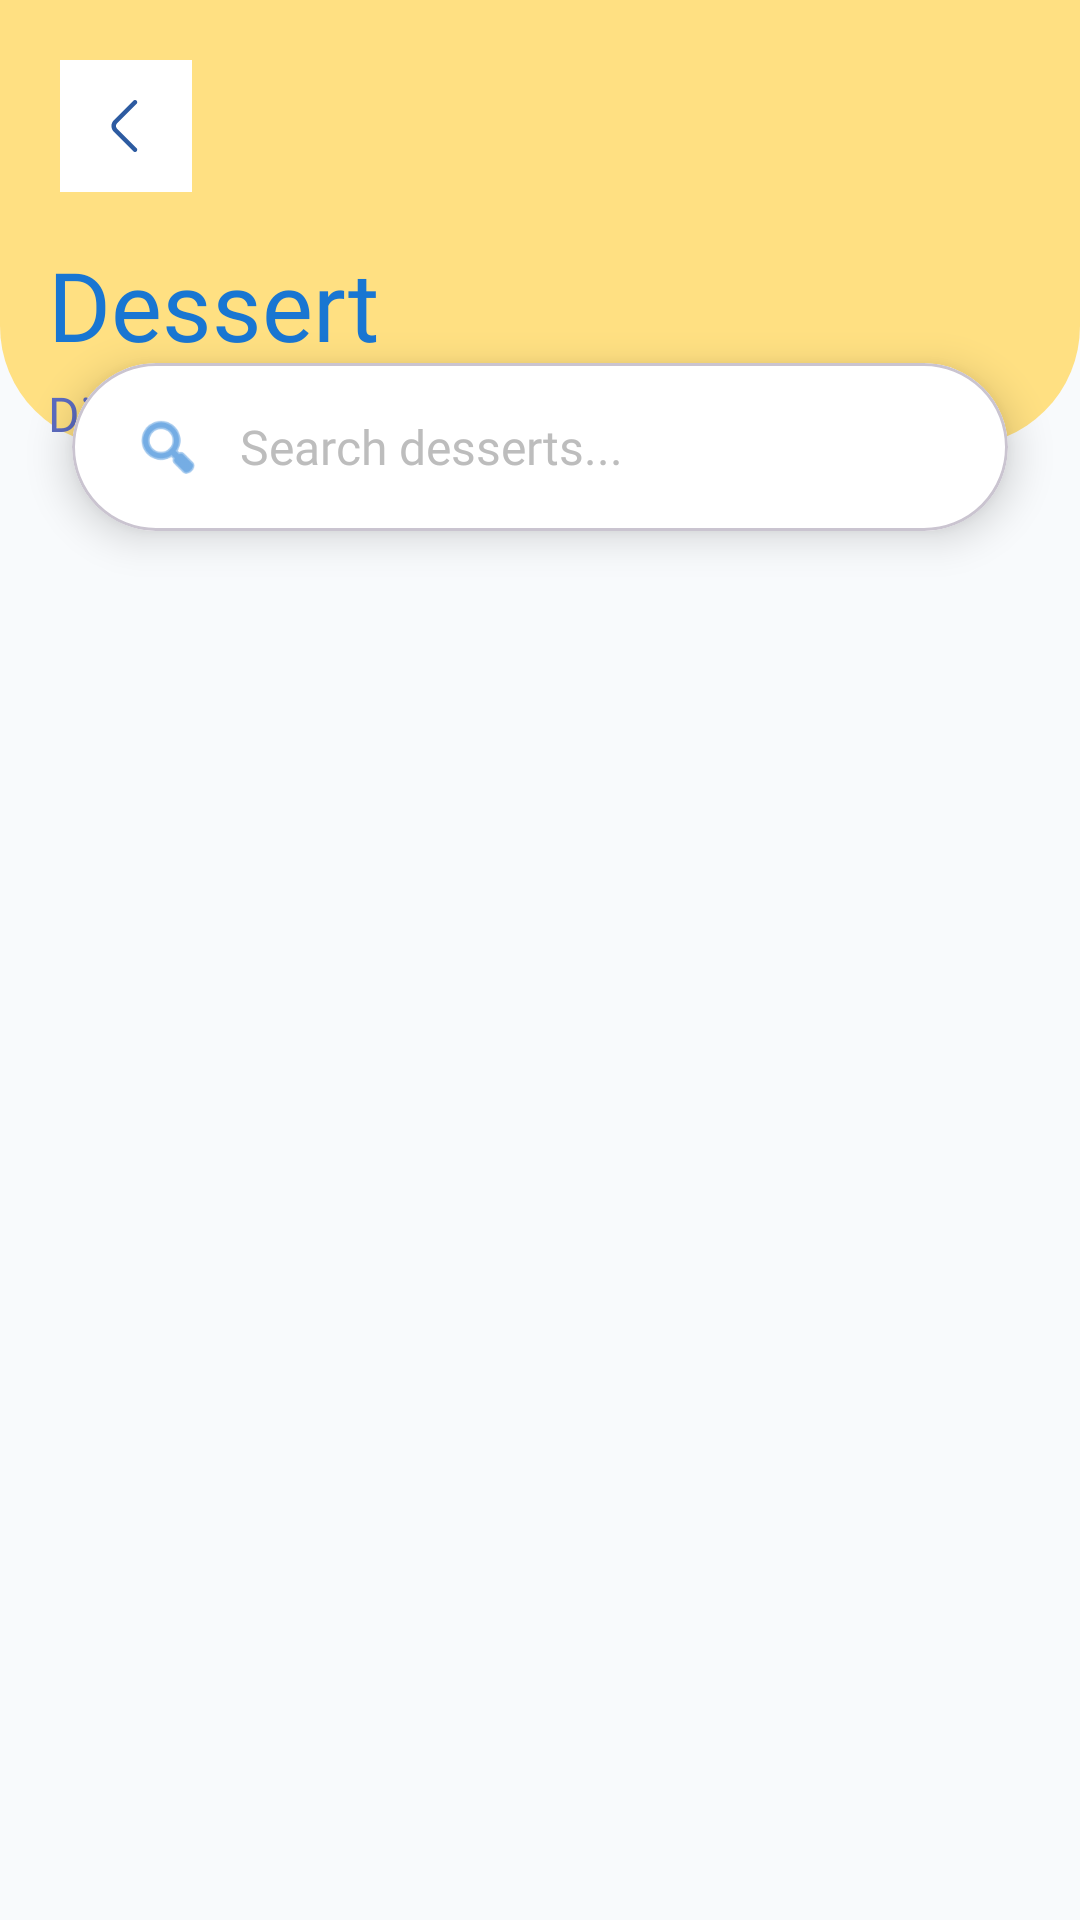

Where to tap for icons on this 1080px×1920px app screen, as [x,y]:
back: [126,126]
